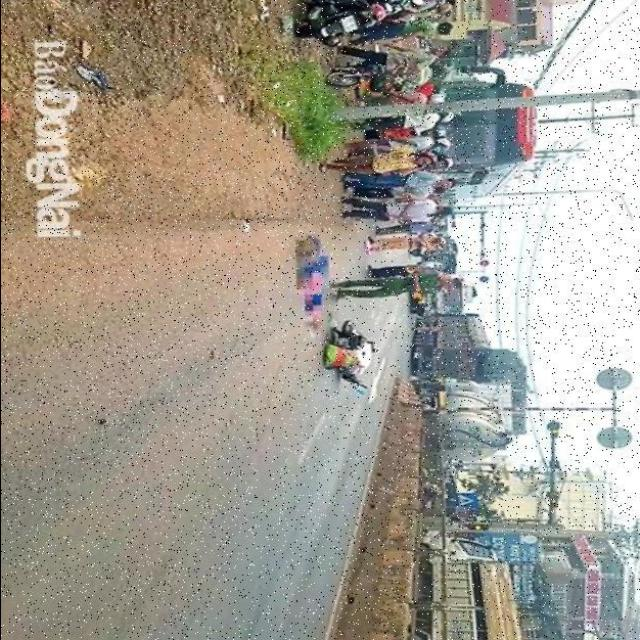accident: (315, 315, 389, 412)
